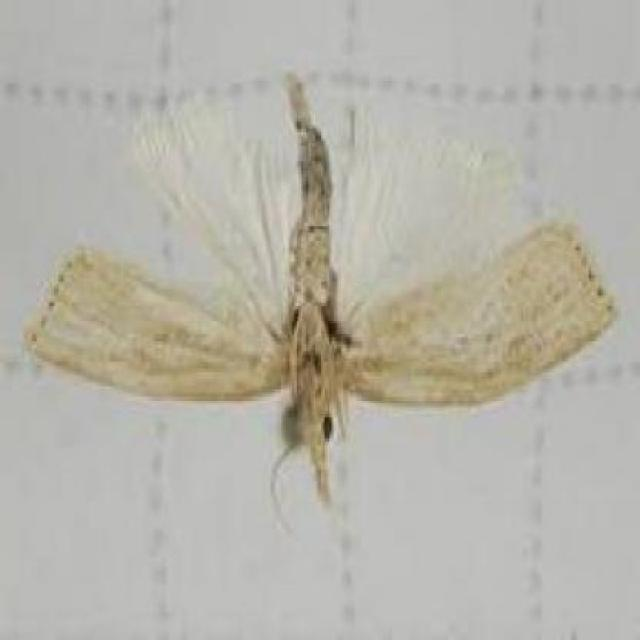stem-borer: (24, 112, 618, 508)
